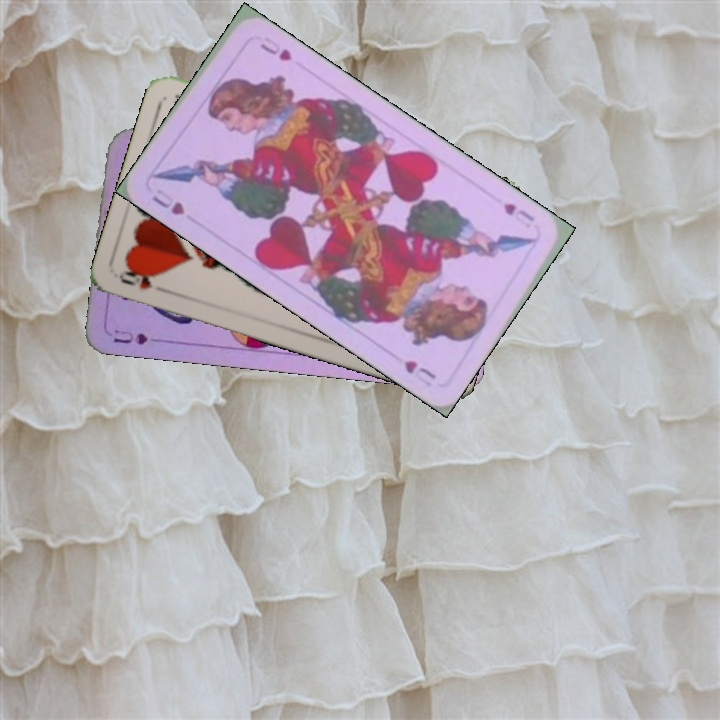HO: (115, 262, 172, 294)
HU: (147, 184, 187, 218), (499, 199, 538, 231)
SU: (109, 325, 168, 347)
